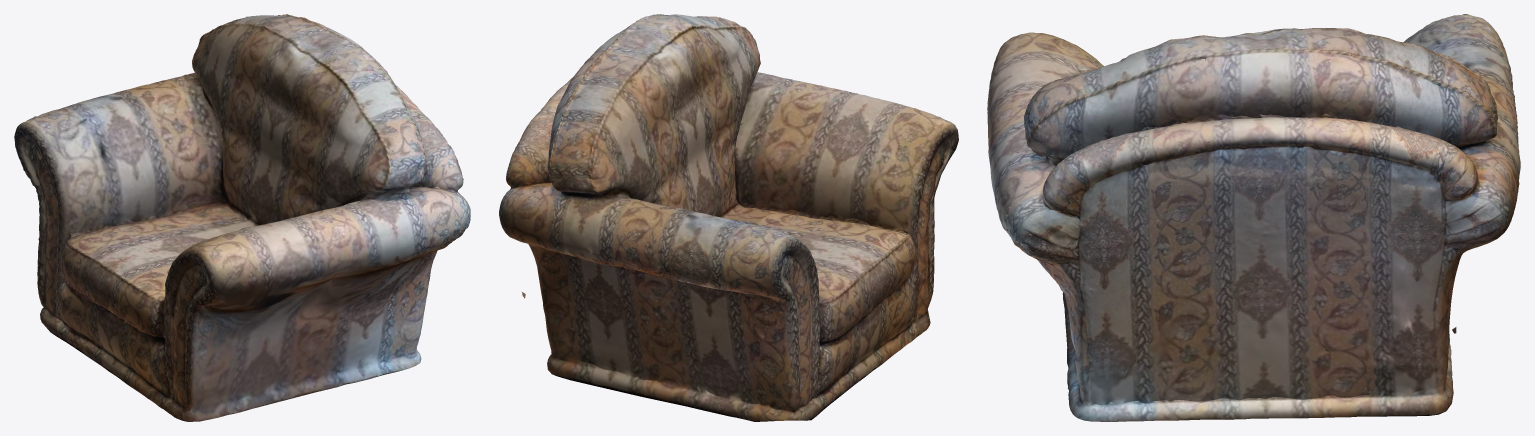
File: livingRoomChair-transformed.glb
3 renders of one model, left to right at view 1: azimuth 30°, elevation 25°; view 2: azimuth 150°, elevation 25°; view 3: azimuth 270°, elevation 25°, orthographic. The views are drawn at different scales.
Visible parts, largest first — view 1: meshes[0]__0; view 2: meshes[0]__0; view 3: meshes[0]__0.
Boxes of the visible parts, bbox=[...] form: meshes[0]__0: bbox=[14, 14, 470, 421]; meshes[0]__0: bbox=[499, 14, 958, 421]; meshes[0]__0: bbox=[987, 14, 1520, 421].
Bounding box in the file's own units: 0.00919 × 0.00837 × 0.0111.
1 material, 1 textured.
